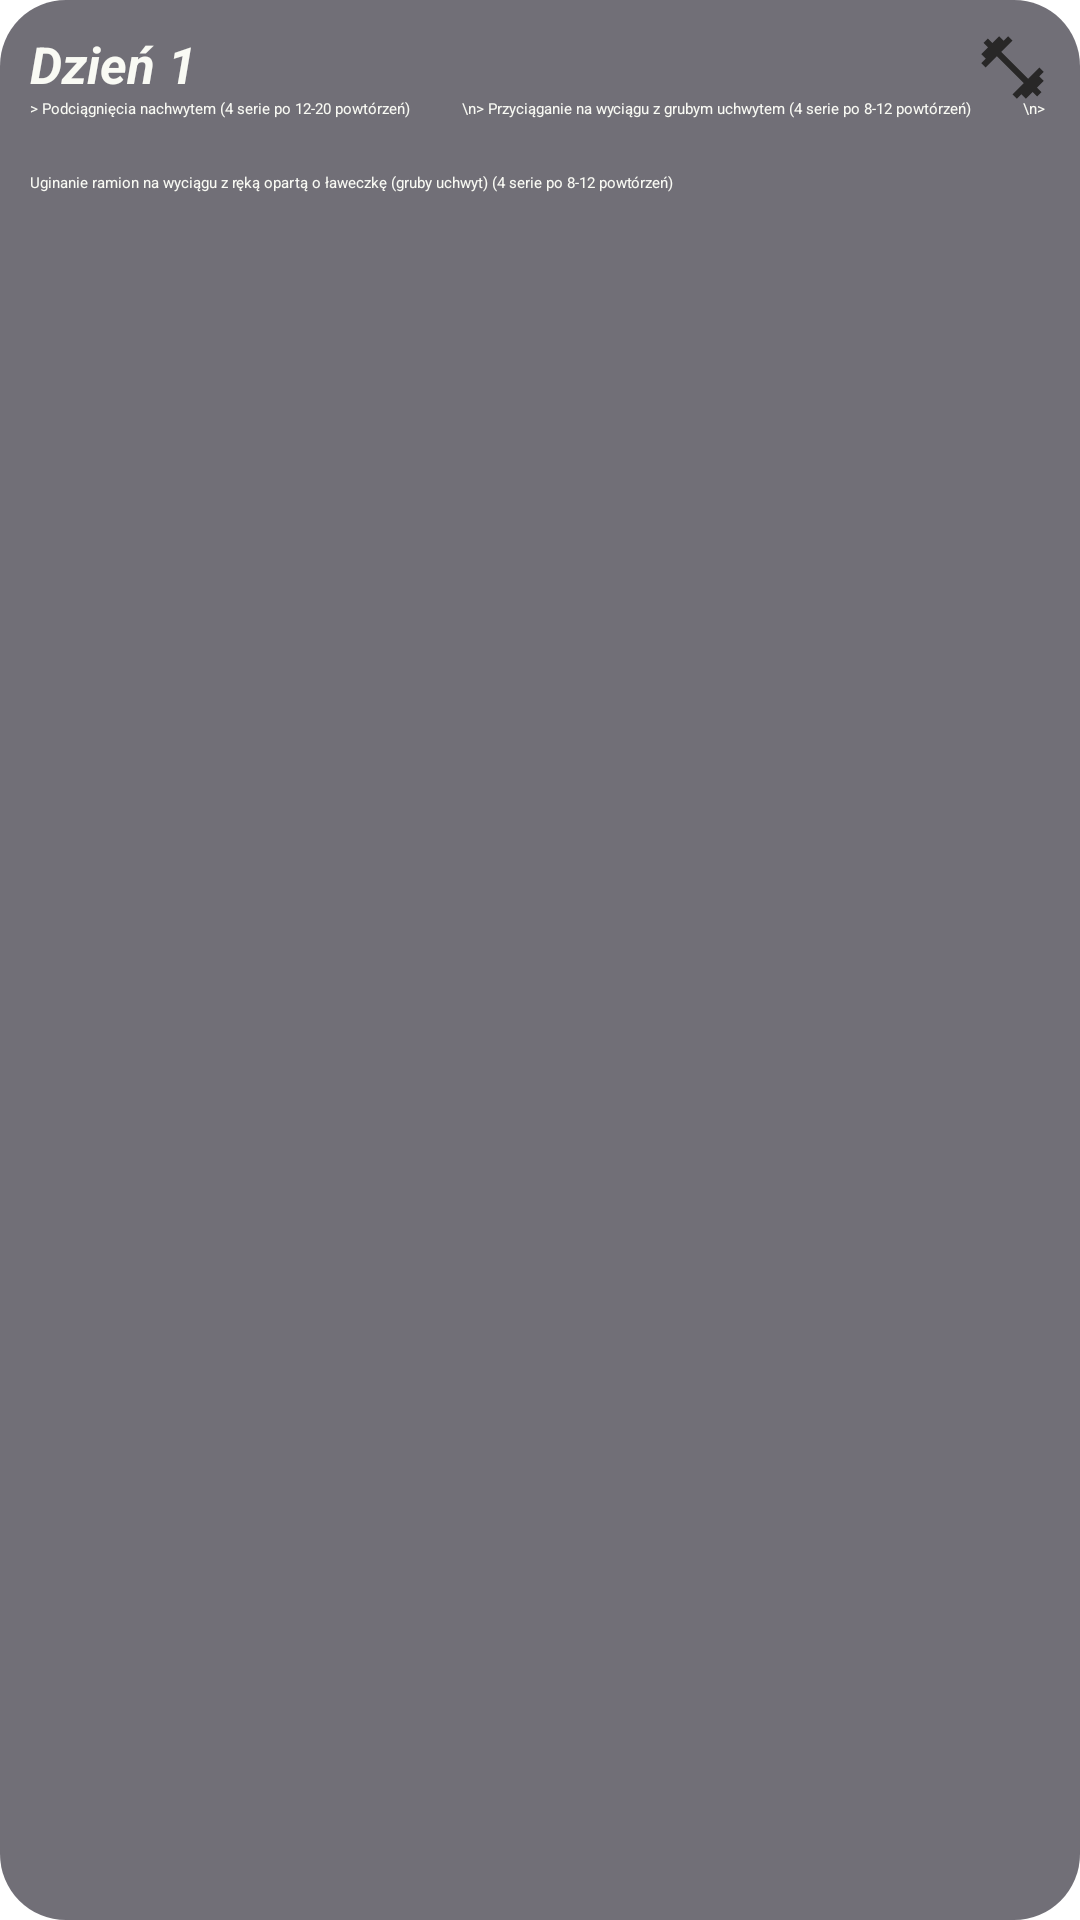

Named icons in this screenshot (1080*1920) and their centers, [x,y]:
fitness center: [1012,67]
